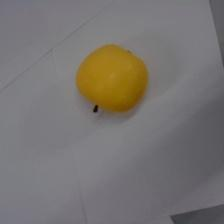yellow: (74, 41, 151, 117)
